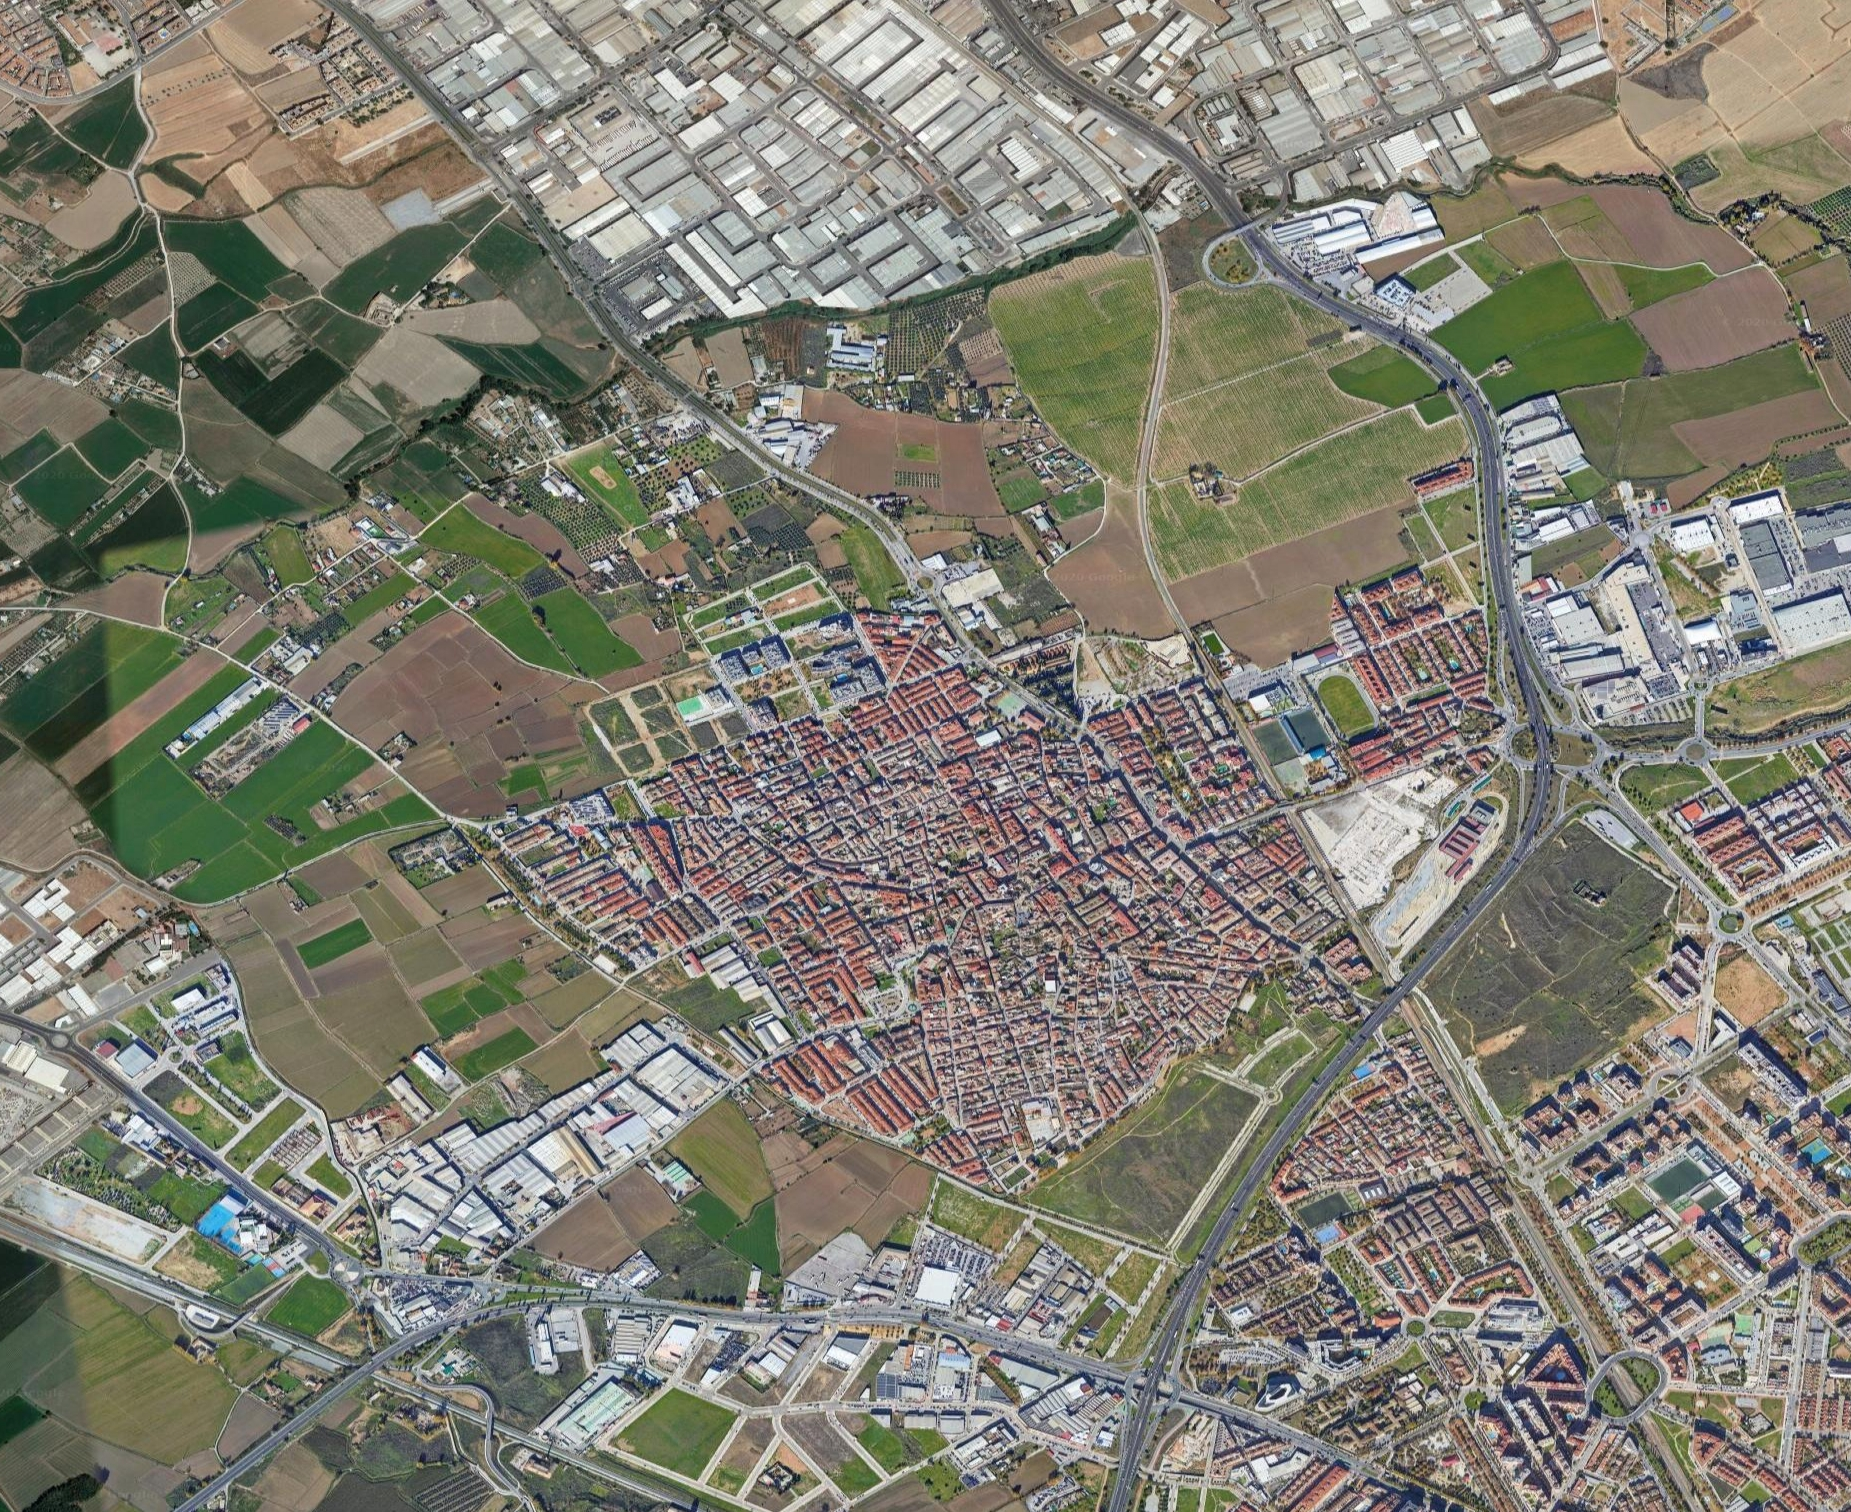industrial: (424, 2, 1580, 308), (1527, 455, 1851, 754), (380, 1000, 707, 1261)
motorway: (1062, 1160, 1276, 1512), (1437, 437, 1607, 874), (1244, 878, 1484, 1171), (1231, 215, 1505, 440), (965, 2, 1239, 225)
